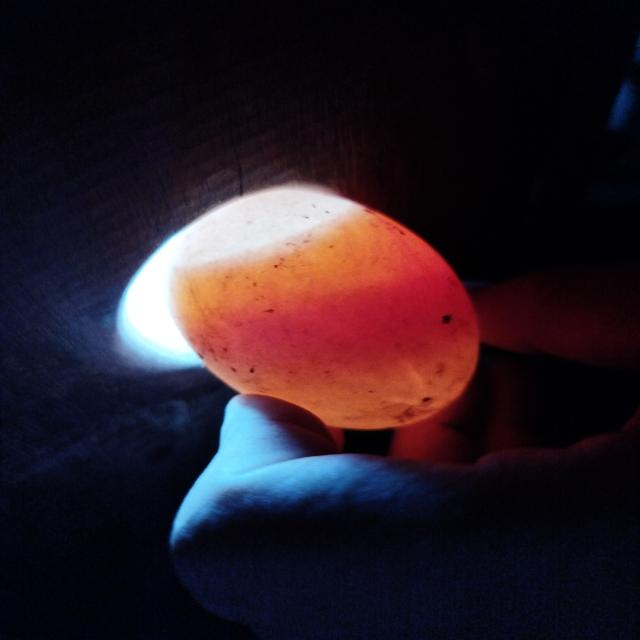Camara de Ar: (172, 190, 356, 268)
Gema Quebrada: (178, 254, 479, 371)
